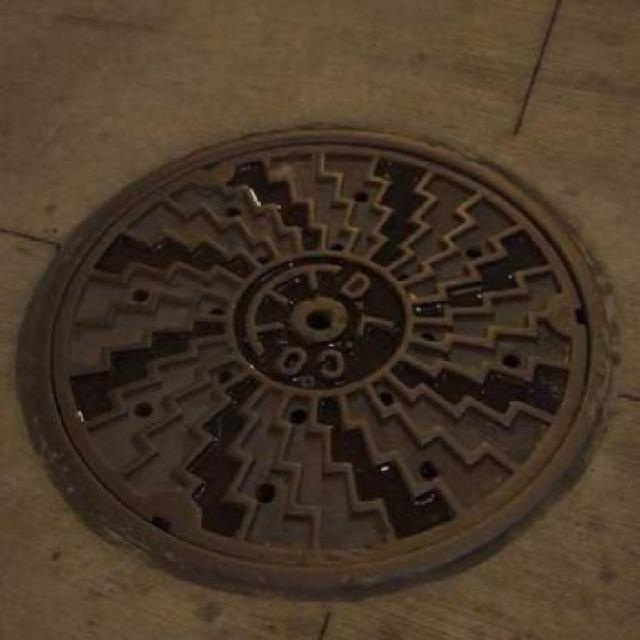Manhole: (6, 109, 631, 614)
